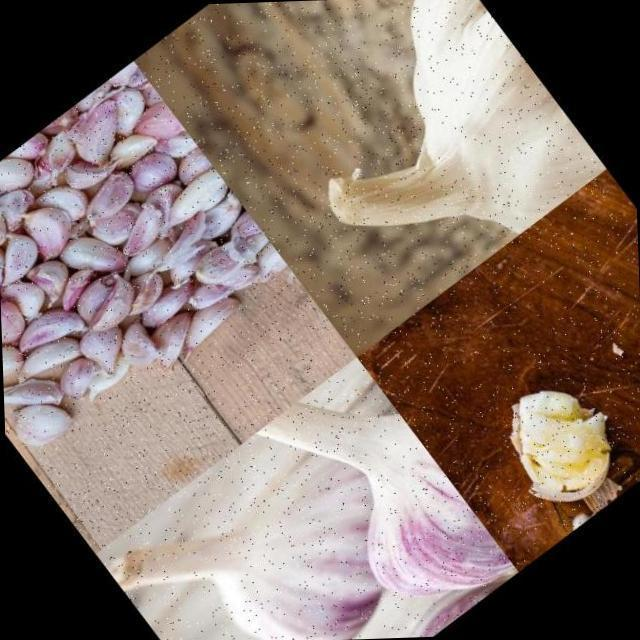garlic: (0, 55, 300, 470), (237, 0, 611, 326), (97, 389, 454, 640), (245, 350, 520, 640)
